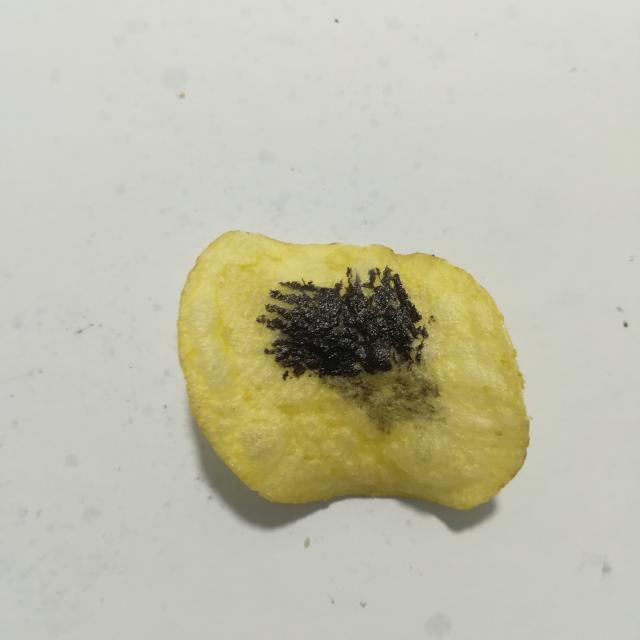chip: (177, 232, 529, 509)
damaged: (256, 267, 428, 378), (282, 371, 289, 380)
semi-damaged: (319, 336, 439, 432)
